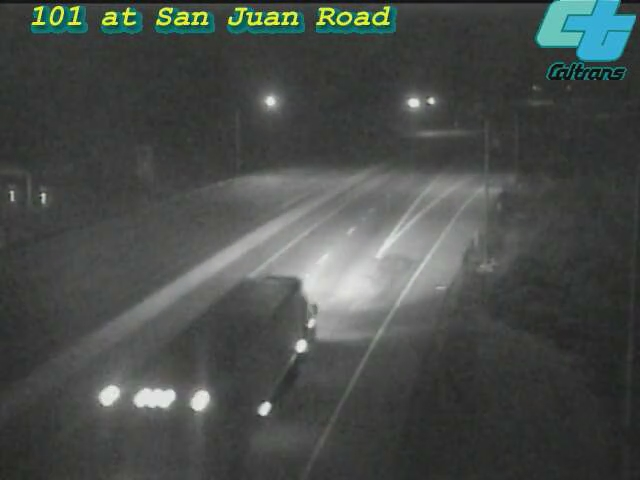vehicle: (183, 310, 293, 420)
